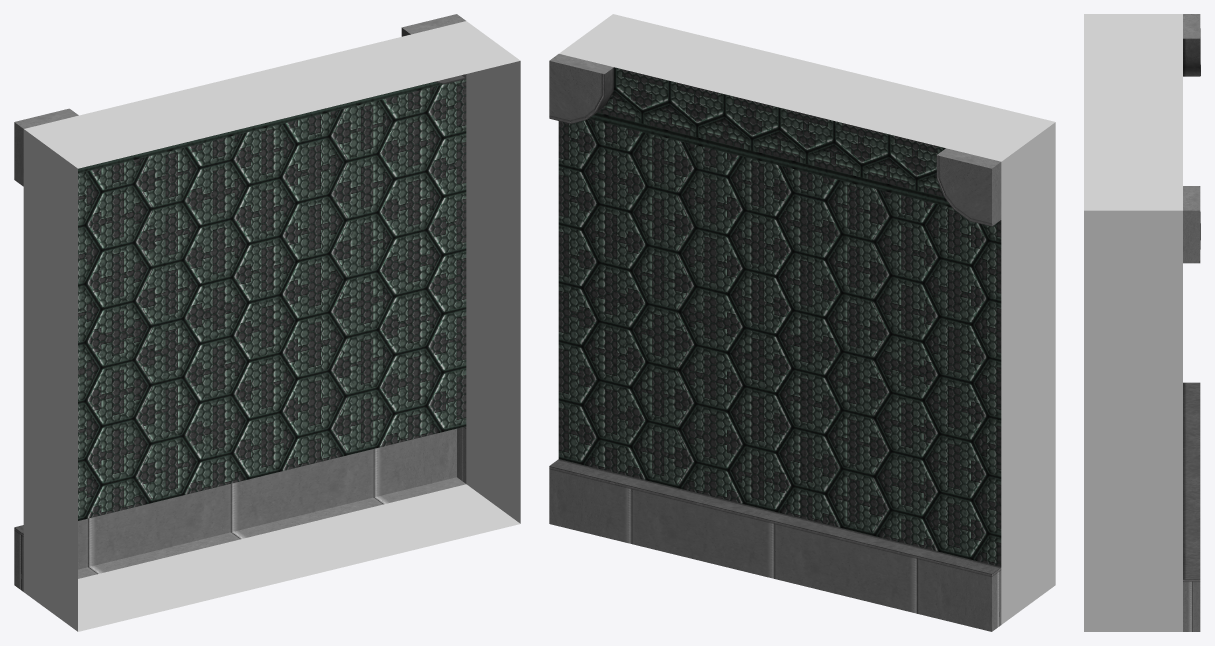
The model's file is OC_road_T-crossroad.fbx.
3 views of the same model, side by side, from view 1: azimuth 30°, elevation 25°; view 2: azimuth 150°, elevation 25°; view 3: azimuth 270°, elevation 25° (orthographic). The views are drawn at different scales.
Parts seen in each view (by area): view 1: OC_road_T-crossroad; view 2: OC_road_T-crossroad; view 3: OC_road_T-crossroad.
Part boxes in pixels (x1=…): OC_road_T-crossroad: x1=14, y1=14, x2=520, y2=631; OC_road_T-crossroad: x1=549, y1=14, x2=1055, y2=631; OC_road_T-crossroad: x1=1084, y1=14, x2=1200, y2=631.
Size of the model in its own units: 4 by 4 by 1.
